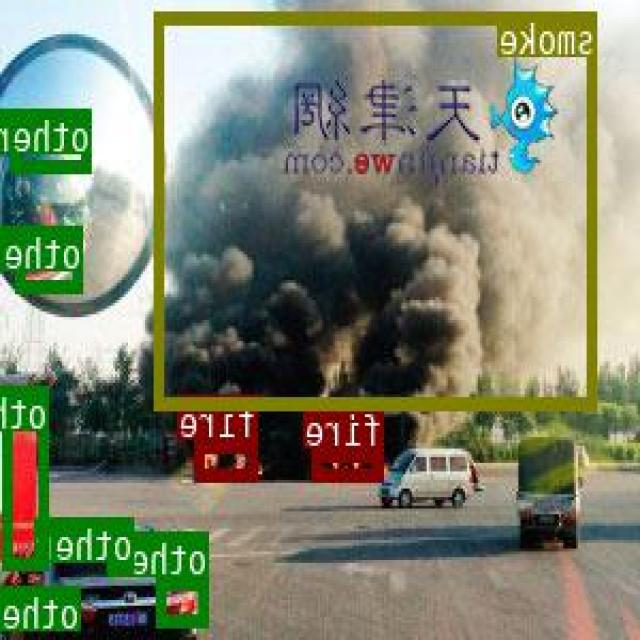fire: (197, 439, 258, 478), (316, 448, 384, 478)
other: (6, 385, 51, 567), (14, 108, 92, 170), (17, 224, 85, 290), (160, 576, 210, 624), (52, 584, 82, 624), (109, 561, 135, 568)
smoke: (157, 11, 599, 406)
